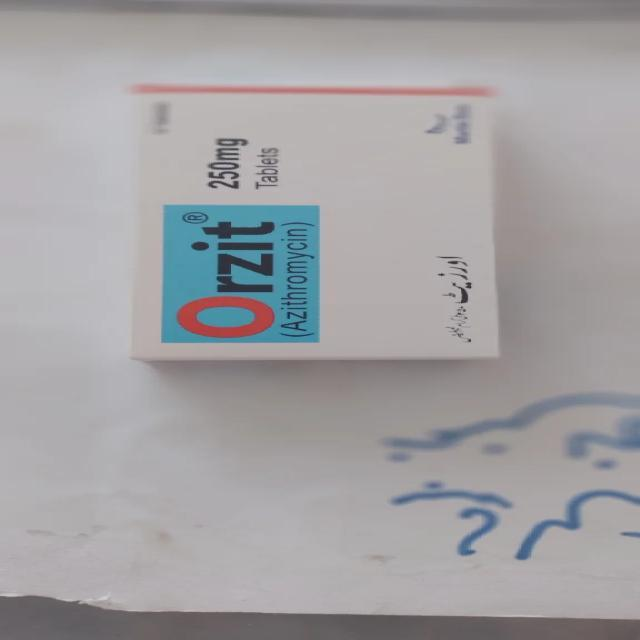drug-name: (172, 220, 276, 338)
